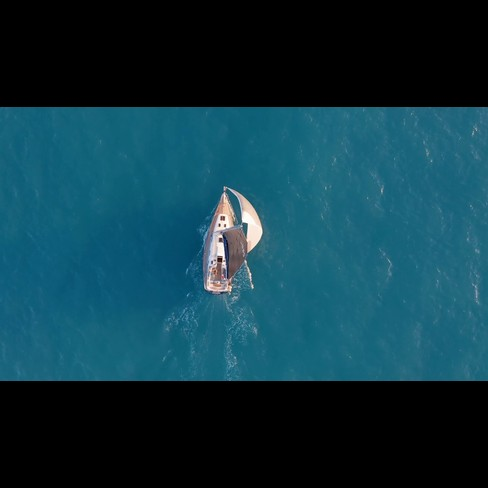boat: (196, 180, 268, 306)
